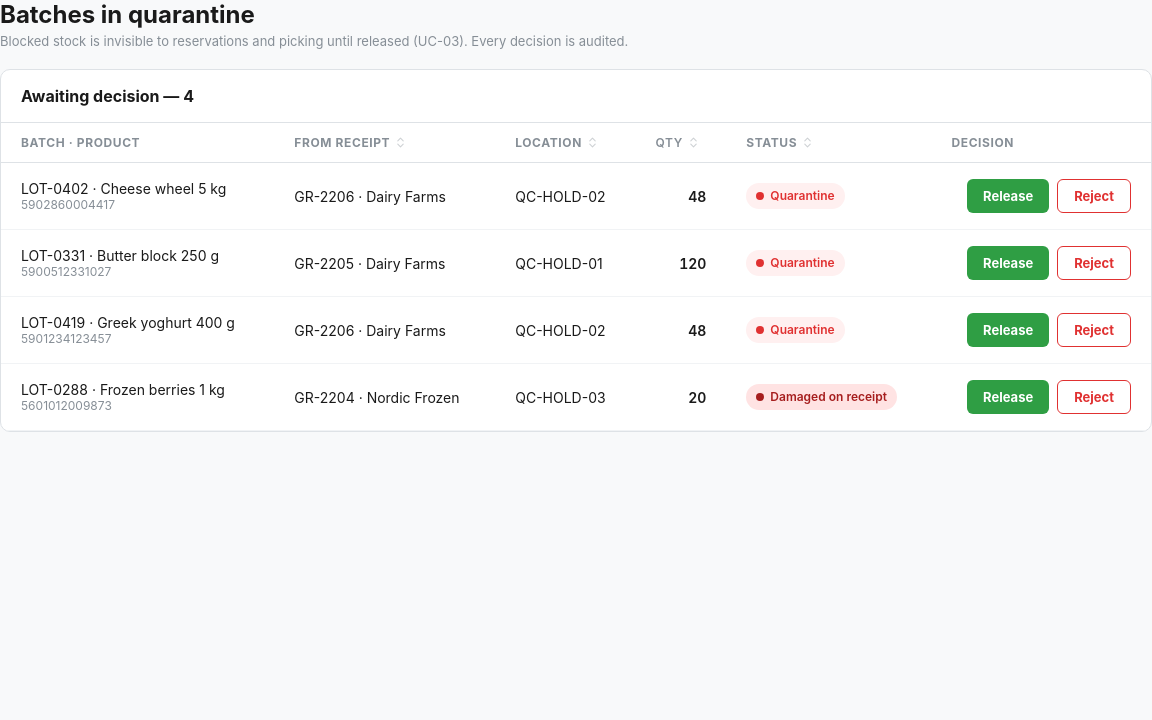
Test: QualityScreen › removes a batch once a reason is given and the decision confirmed
Expected: the text "LOT-0402 · Cheese wheel 5 kg" is shown, [21,180,226,197]
Click the button "Release" in the row of "LOT-0402" at (1008, 196), box [967,179,1049,213]
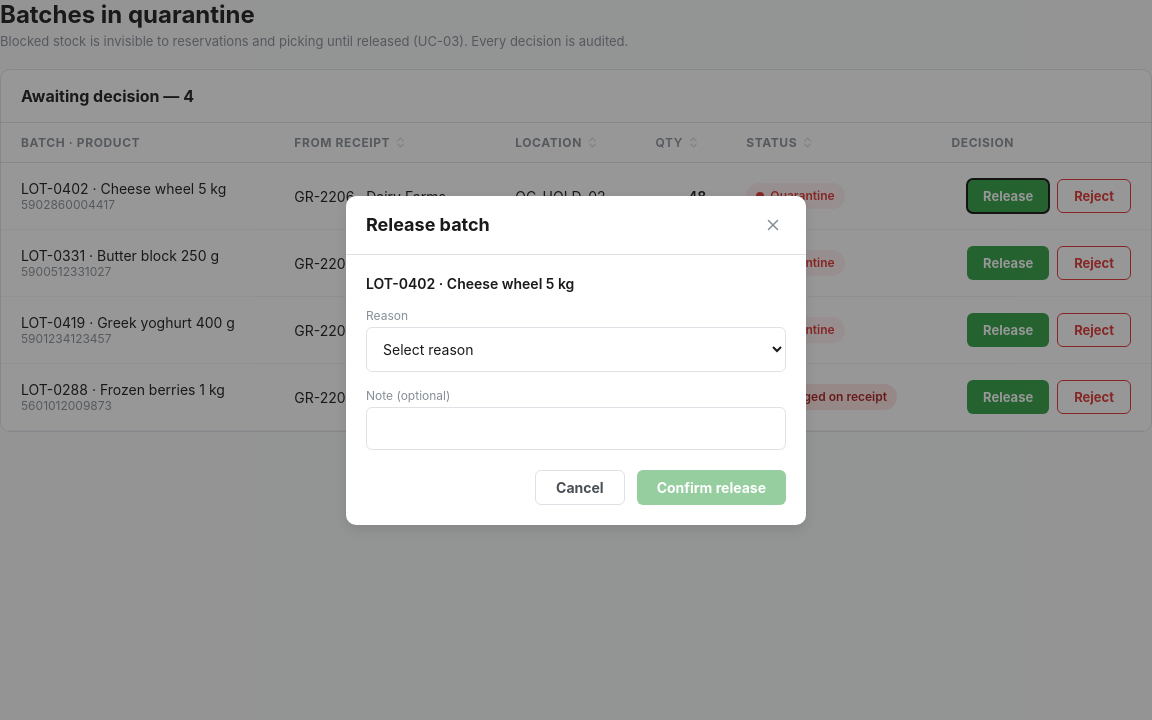
Select "QC passed" in the dropdown labelled "Reason" at (576, 349), box [366,326,786,372]
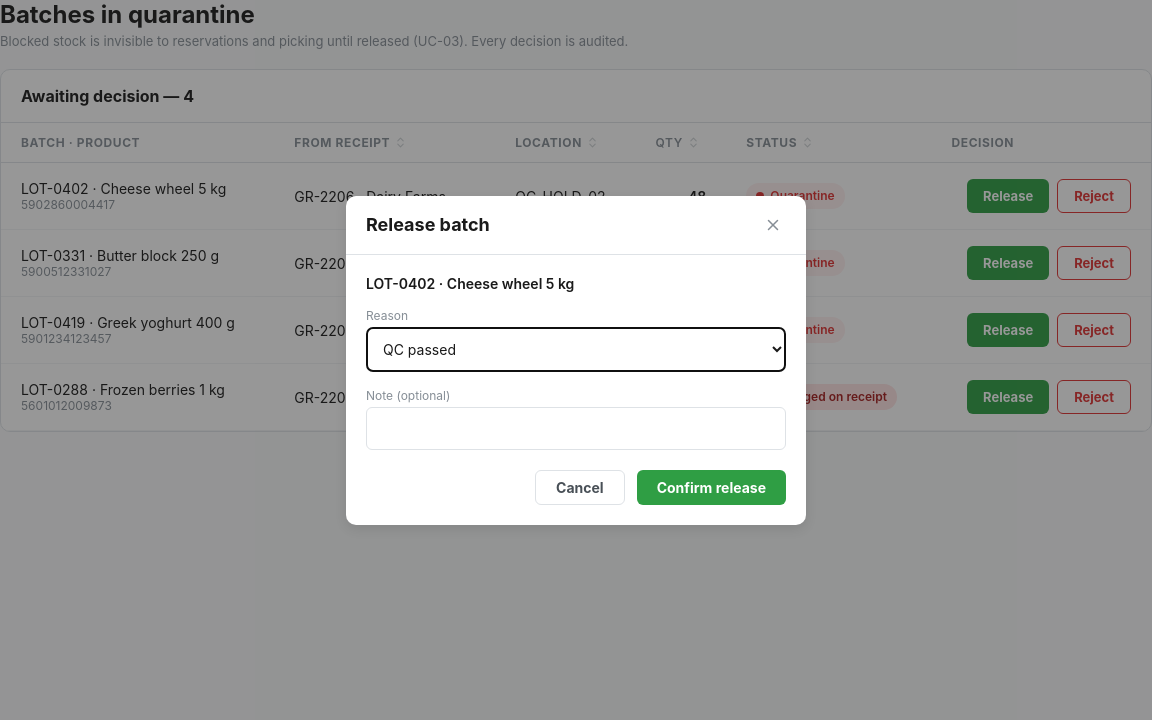
Click the button "Confirm release" at (711, 487), box [637,470,786,504]
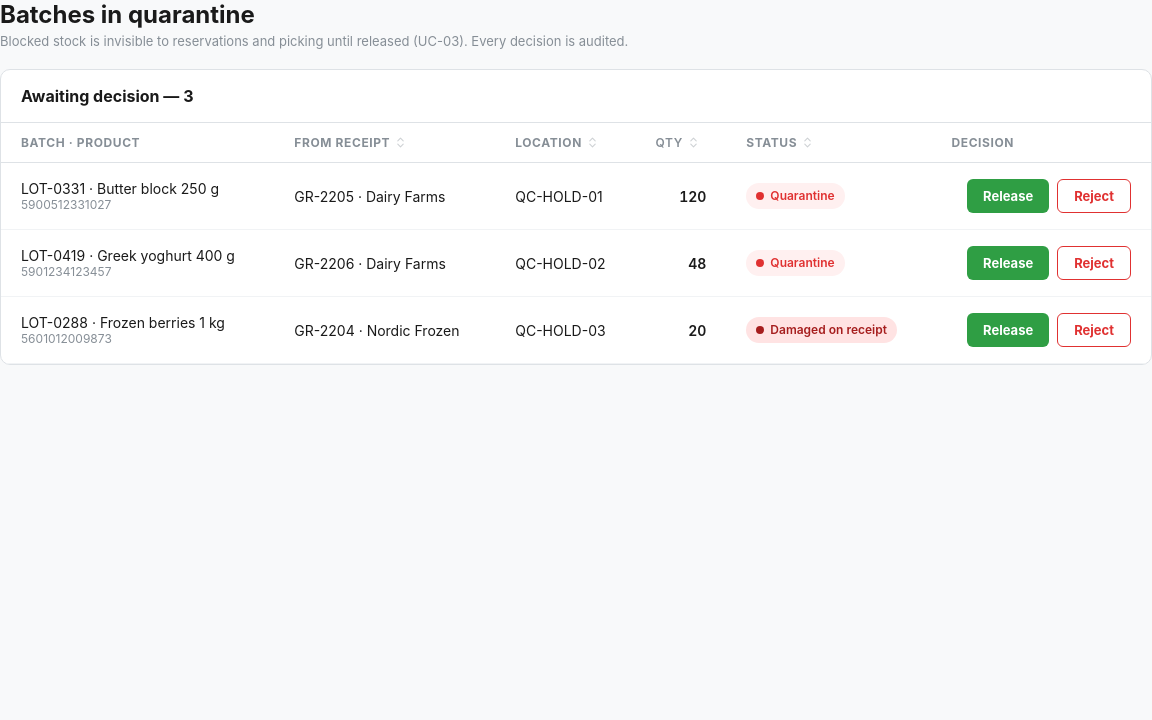
Expected: the text "Cheese wheel 5 kg" is gone
Expected: the number of buttons "Release" is 3, [967,179,1049,213]; [967,246,1049,280]; [967,313,1049,347]
